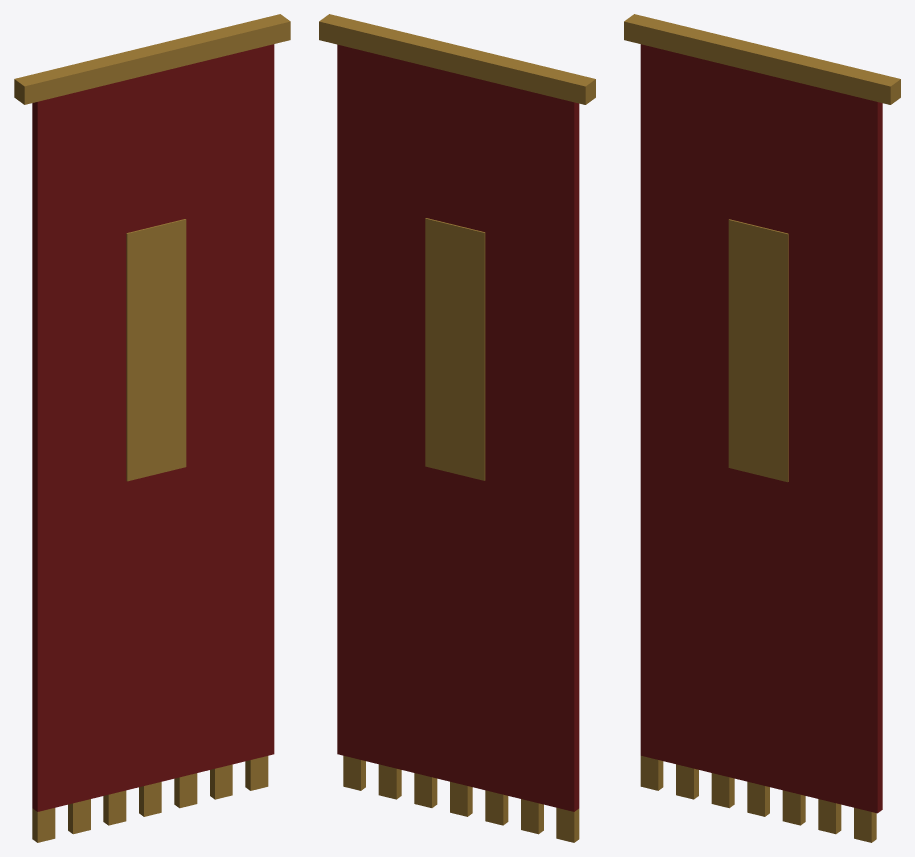
The model's file is palace_f_banner_long.glb.
3 renders of one model, left to right at view 1: azimuth 30°, elevation 25°; view 2: azimuth 150°, elevation 25°; view 3: azimuth 330°, elevation 25°, orthographic.
Parts seen in each view (by area): view 1: sw5e_int_palace_f_banner_long; view 2: sw5e_int_palace_f_banner_long; view 3: sw5e_int_palace_f_banner_long.
Part boxes in pixels (box(x1,y1,x2,y2)): sw5e_int_palace_f_banner_long: box(14, 14, 290, 842); sw5e_int_palace_f_banner_long: box(319, 14, 595, 842); sw5e_int_palace_f_banner_long: box(624, 14, 900, 842).
Bounding box in the file's own units: 0.9 × 2.46 × 0.06.
